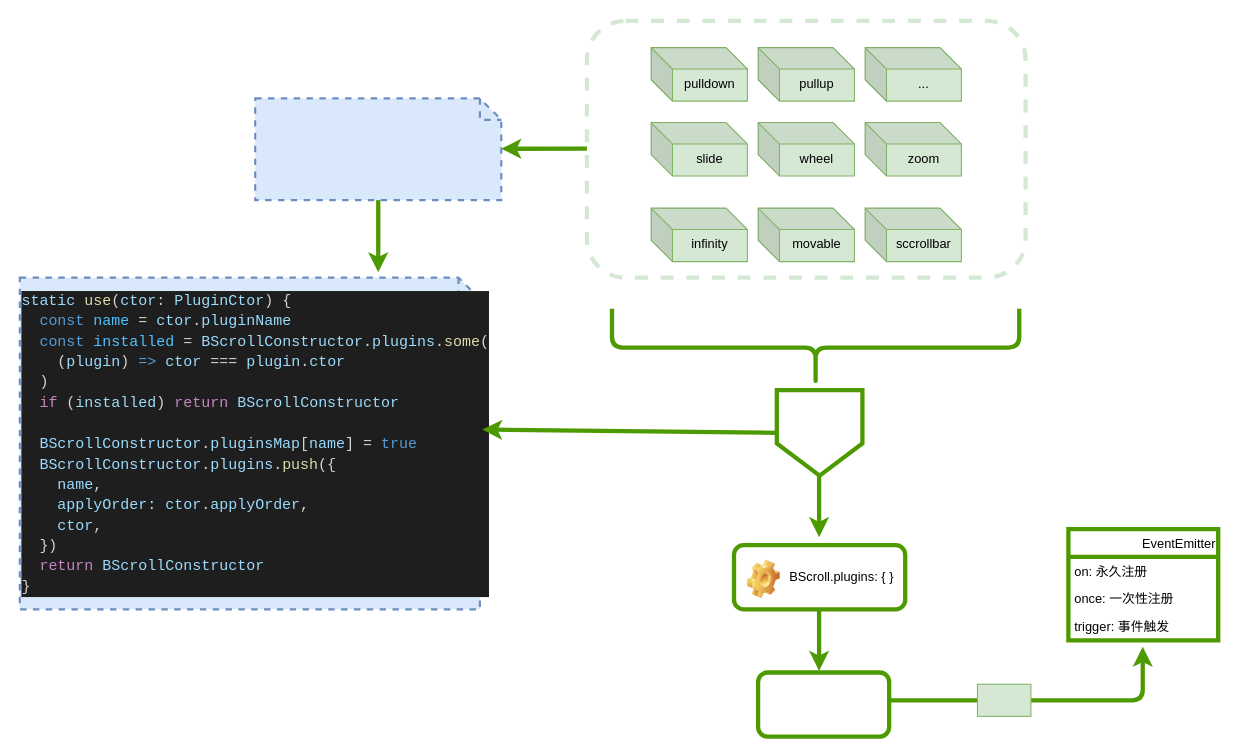
Image size: 1238x756. Some labels were removed from this diagram. The shapes that lost their labels are listed below. From the top down, each one's centre as x and y in pixels, then its label:
the point at 378,149: BScroll . use ( pulldown );
the point at 819,432: BScroll.use
the point at 823,704: BScroll
the point at 1003,699: 继承
